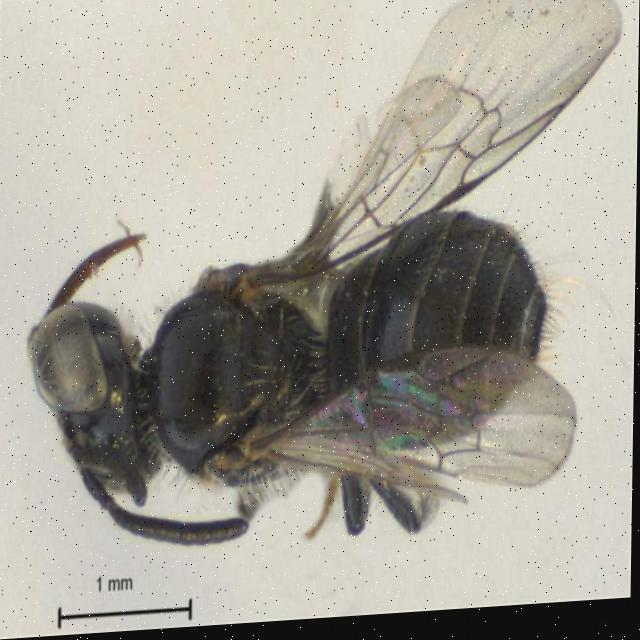Braunsapis: (21, 79, 594, 601)
